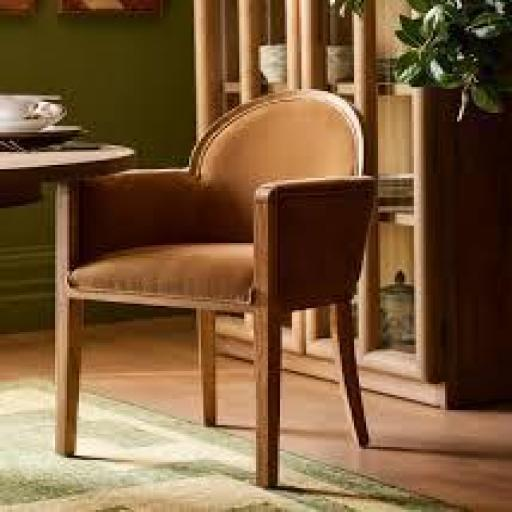chair: (48, 85, 383, 490)
